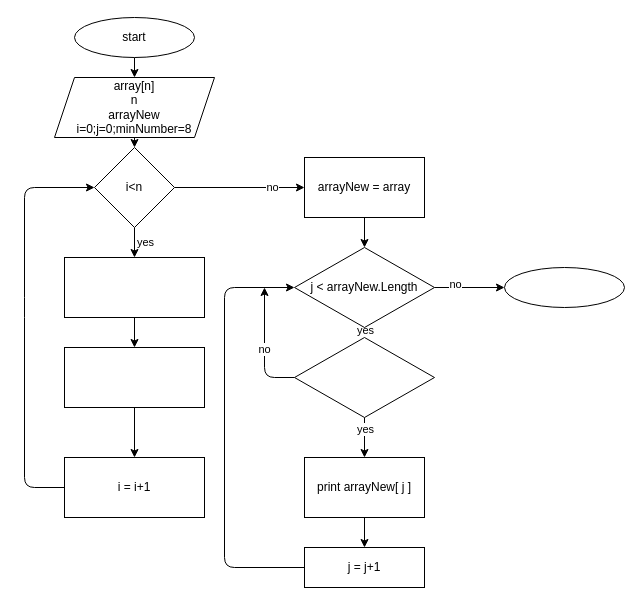
The diagram is 642 pixels wide and 605 high, and some of its shapes have lost their labels. Here are the shapes that lost their labels. From the top down, the centre of each, then its label:
point (134, 287): array[i] = random(1,100)
point (564, 287): finish
point (134, 377): print array[i]
point (364, 377): arrayNew[ j ] > minNumber
